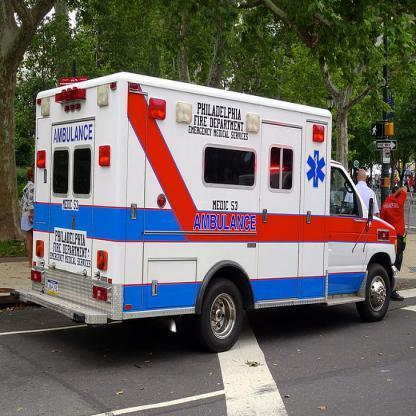Ambulance: (189, 212, 258, 233), (52, 121, 94, 145), (306, 149, 325, 189)
